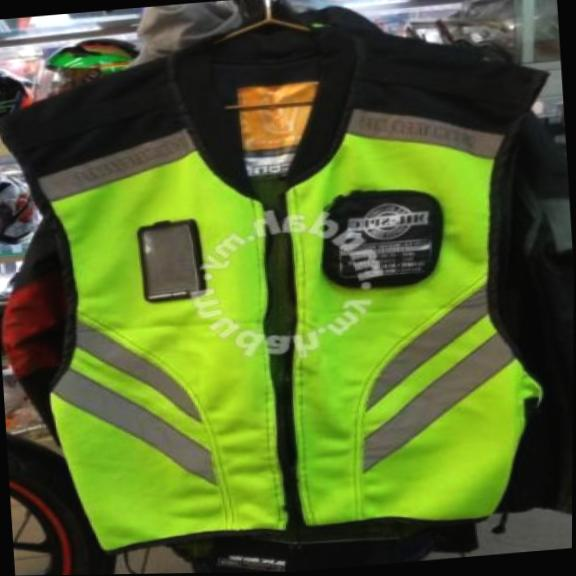safety_vest: (0, 11, 576, 563)
